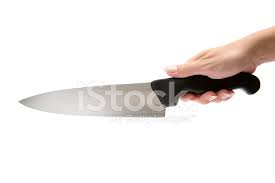knife: (12, 73, 265, 117)
